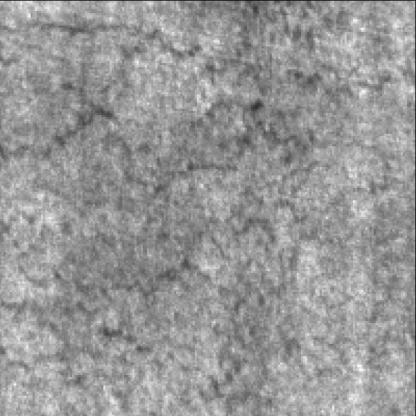crazing: (29, 23, 335, 314)
